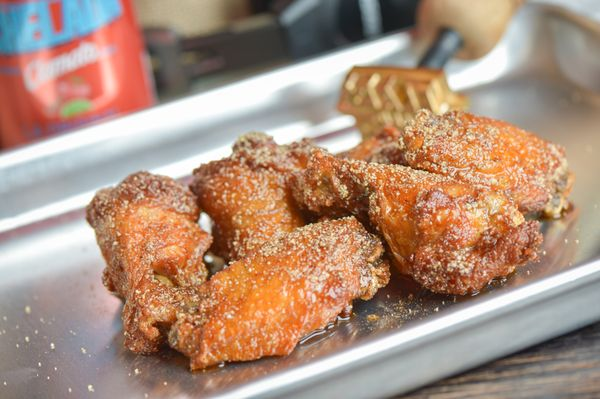salad: (84, 161, 392, 372)
